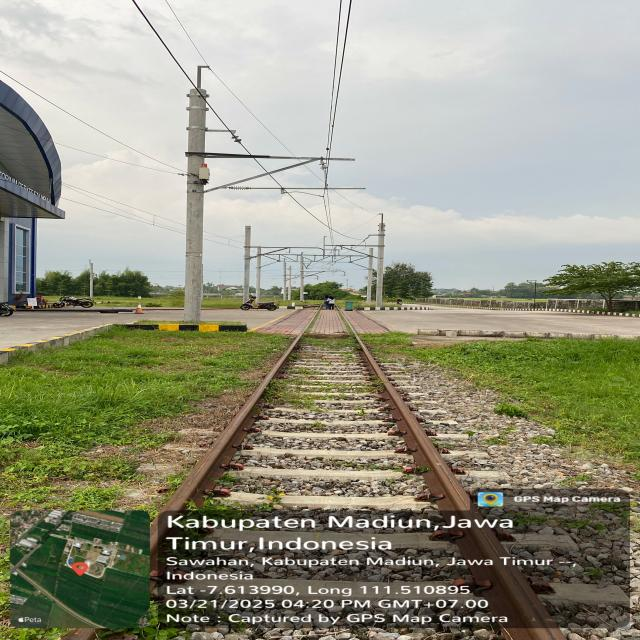rail-detection: (358, 340, 561, 640), (151, 336, 301, 572)
